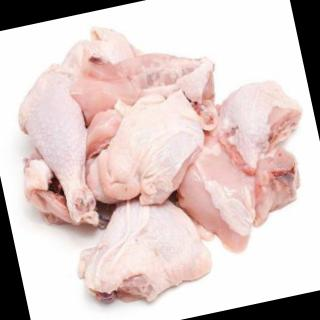Ayam: (1, 1, 320, 320), (57, 5, 219, 130), (66, 88, 217, 220), (71, 192, 217, 310), (7, 61, 106, 233), (209, 75, 312, 180)
